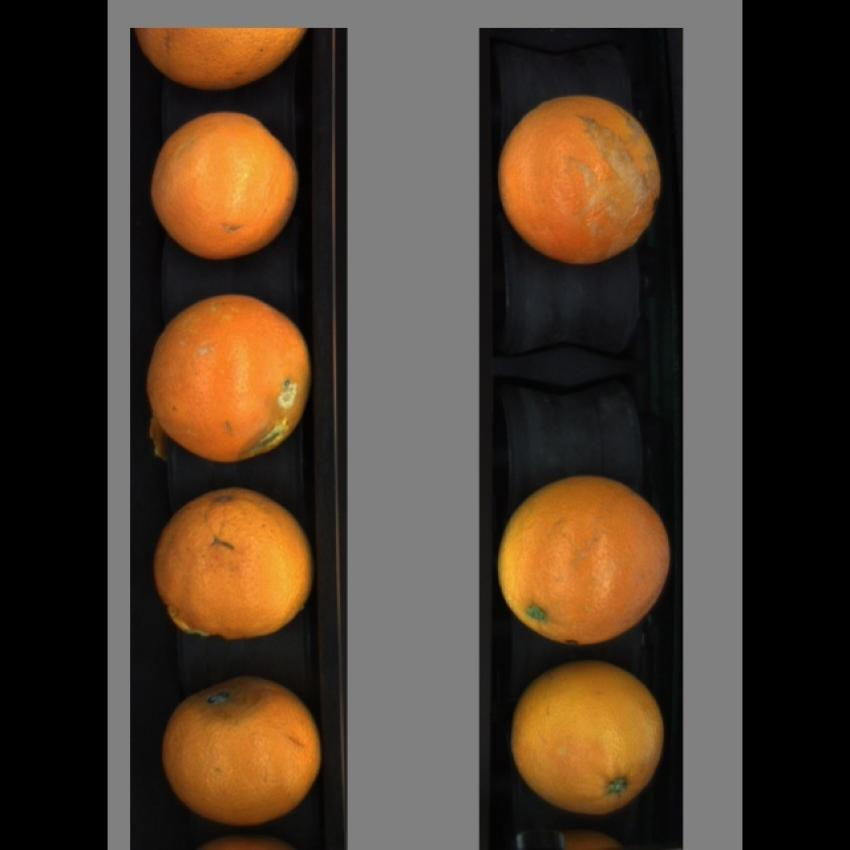Buen estado: (504, 664, 672, 813), (148, 112, 306, 258), (134, 29, 321, 94)
Mal estado: (490, 90, 673, 264), (493, 478, 682, 644), (141, 294, 313, 463), (149, 486, 316, 648), (152, 670, 322, 825)
